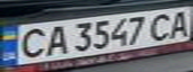3: (69, 19, 93, 53)
4: (109, 15, 133, 47)
5: (90, 17, 115, 51)
7: (124, 14, 151, 45)
A: (39, 22, 72, 56), (163, 7, 193, 38)
C: (12, 26, 51, 60), (145, 11, 175, 42)
